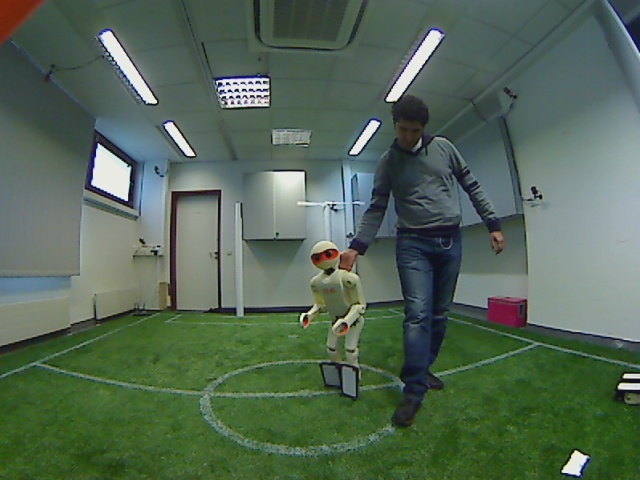robot: (298, 238, 374, 398)
